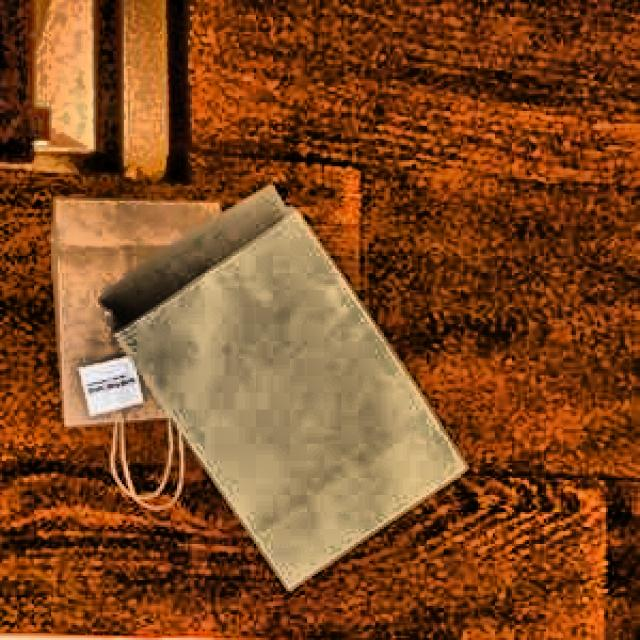Paper-bag: (98, 183, 474, 609), (28, 184, 235, 524)
